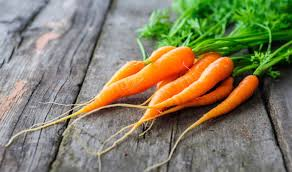carrot: (91, 43, 205, 107), (169, 71, 270, 124), (162, 54, 238, 110)
